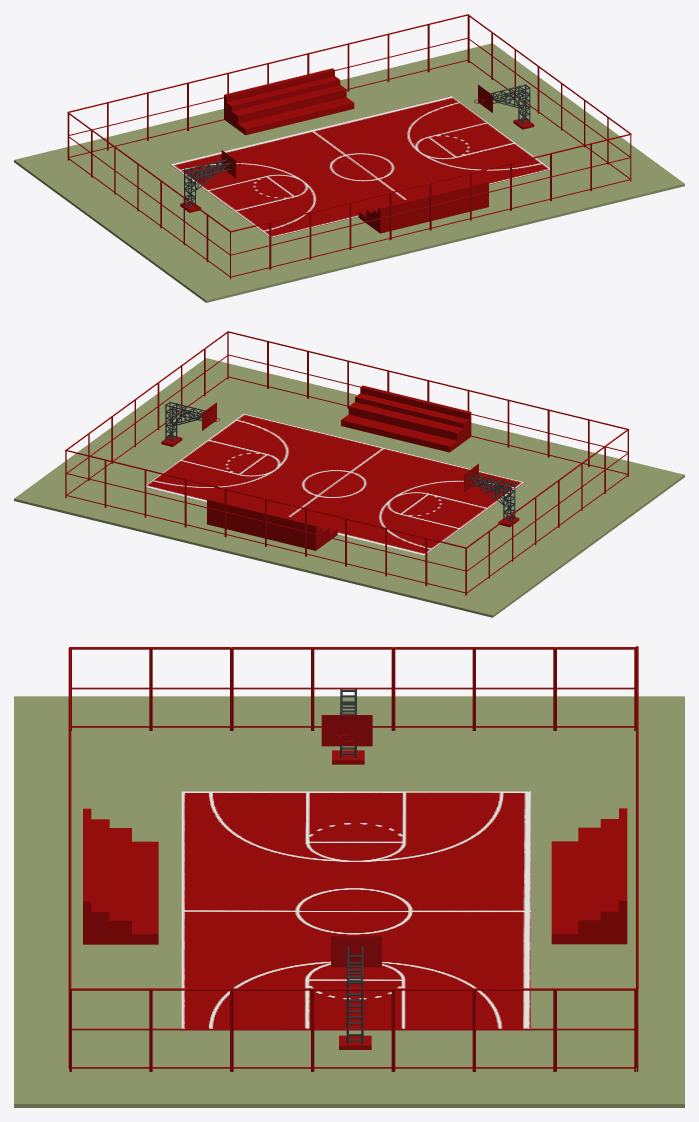
Rendered from lapangan.obj.
3 views of the same model, one above another, from view 1: azimuth 30°, elevation 25°; view 2: azimuth 150°, elevation 25°; view 3: azimuth 270°, elevation 25° (orthographic). The views are drawn at different scales.
Parts seen in each view (by area): view 1: Cube.001_Cube.004; view 2: Cube.001_Cube.004; view 3: Cube.001_Cube.004.
Part boxes in pixels (x1=…): Cube.001_Cube.004: x1=14, y1=14, x2=684, y2=302; Cube.001_Cube.004: x1=14, y1=331, x2=684, y2=617; Cube.001_Cube.004: x1=14, y1=646, x2=684, y2=1107.
Bounding box in the file's own units: 10.9 × 1.1 × 7.58.
Materials: 5 (1 with a texture image).
